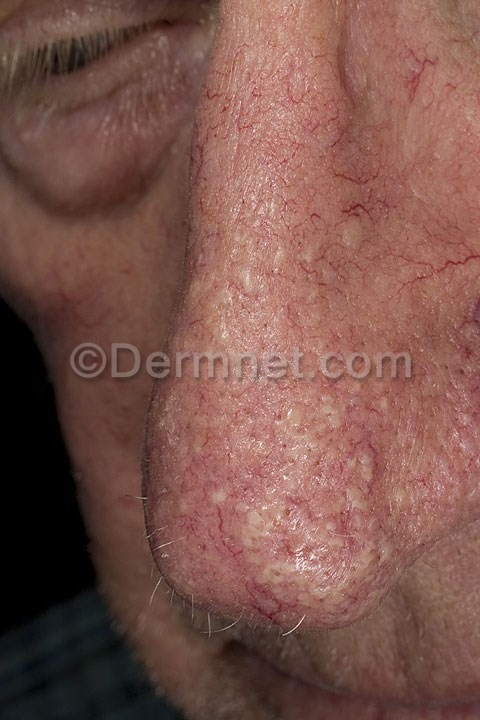Melasma: (74, 115, 234, 699), (205, 0, 257, 87)
